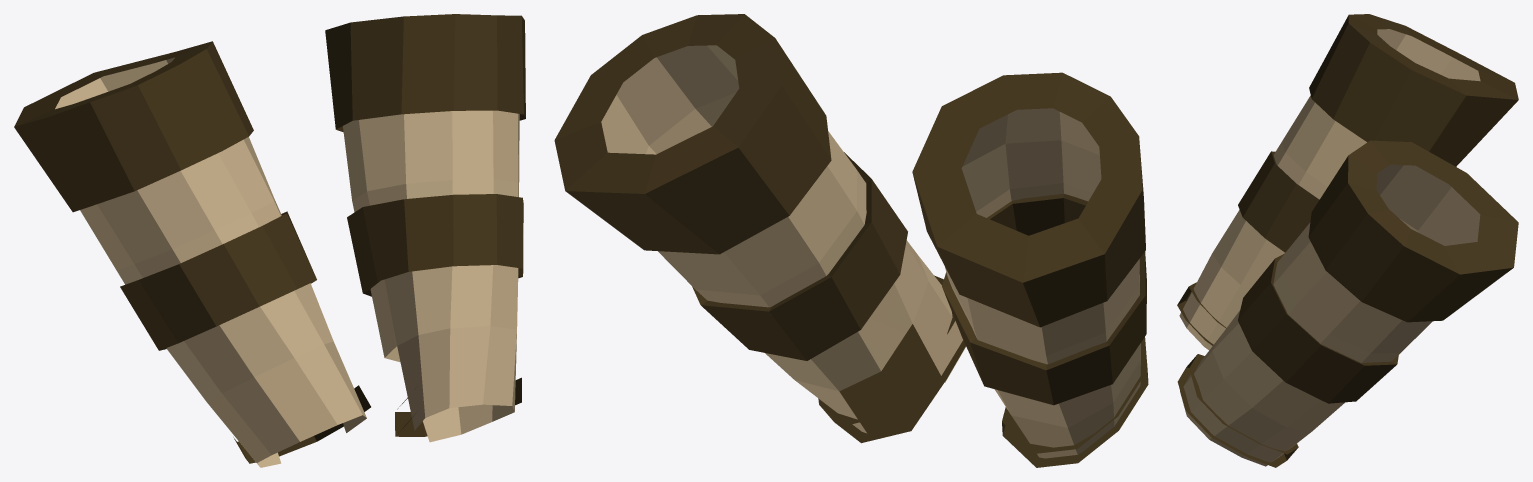
Rendered from Icon 2.fbx.
3 renders of one model, left to right at view 1: azimuth 30°, elevation 25°; view 2: azimuth 150°, elevation 25°; view 3: azimuth 270°, elevation 25°, orthographic. The views are drawn at different scales.
Parts seen in each view (by area): view 1: Leather Arm.005; view 2: Leather Arm.005; view 3: Leather Arm.005.
Part boxes in pixels (x1,y1,x2,y2): Leather Arm.005: [14, 14, 525, 467]; Leather Arm.005: [554, 14, 1148, 467]; Leather Arm.005: [1177, 14, 1518, 467].
Bounding box in the file's own units: 40.43 × 32.12 × 28.58.
